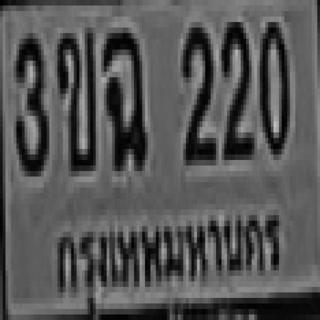A02: (55, 25, 93, 168)
A09: (101, 28, 145, 166)
N00: (257, 19, 287, 152)
N02: (181, 19, 213, 157), (220, 17, 250, 154)
N03: (14, 28, 46, 171)
